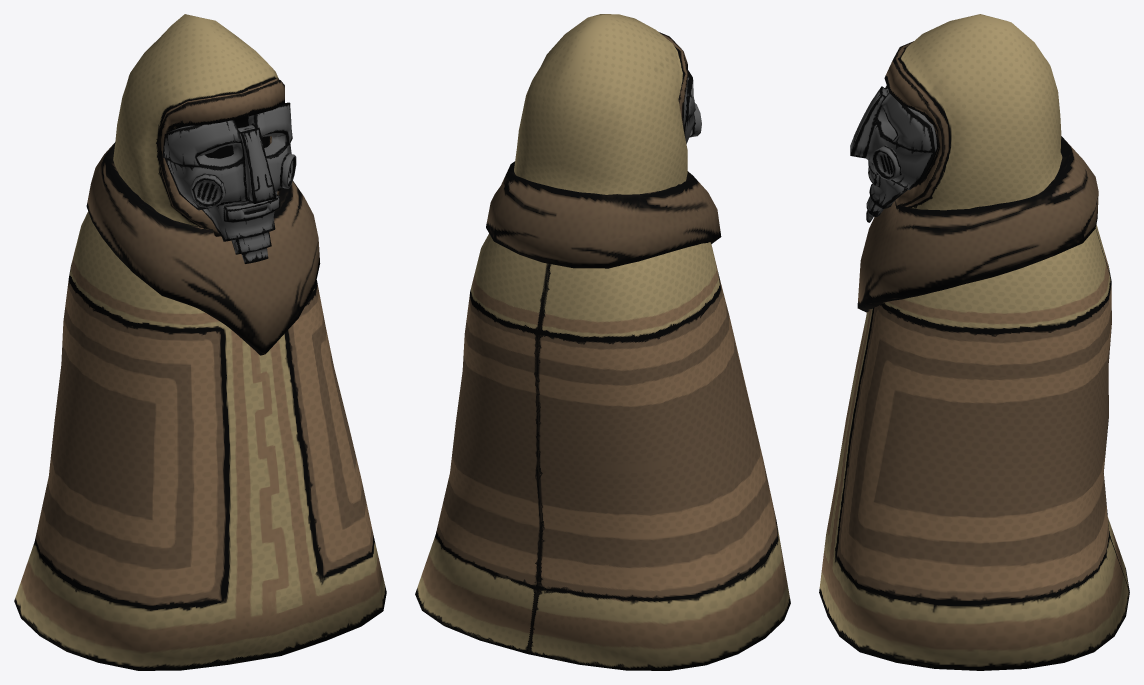
Rendered from Spelprojekt 2025 karaktär.fbx.
3 renders of one model, left to right at view 1: azimuth 30°, elevation 25°; view 2: azimuth 150°, elevation 25°; view 3: azimuth 270°, elevation 25°, orthographic.
Visible parts, largest first — view 1: Karaktär; view 2: Karaktär; view 3: Karaktär.
Boxes of the visible parts, x1,y1,x2,y2 form: Karaktär: [14, 14, 386, 670]; Karaktär: [415, 14, 790, 670]; Karaktär: [819, 14, 1129, 670].
Bounding box in the file's own units: 322 × 554 × 270.
